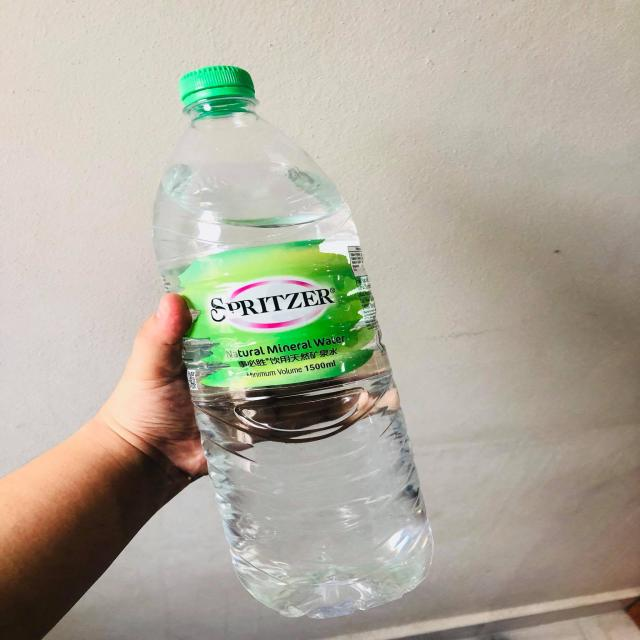plastic: (158, 65, 434, 620)
